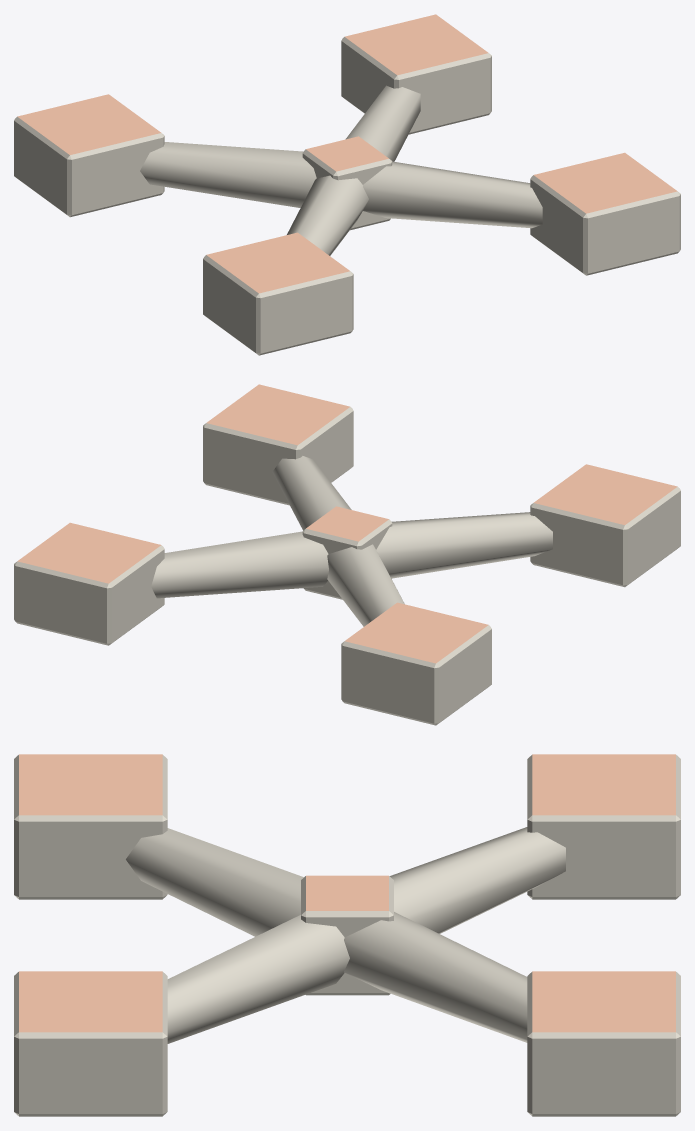
File: R4C_ROD_CROSS_LOD1.fbx
The picture shows the model from 3 angles, top to bottom: view 1: azimuth 30°, elevation 25°; view 2: azimuth 150°, elevation 25°; view 3: azimuth 270°, elevation 25°; orthographic projection. The views are drawn at different scales.
Parts seen in each view (by area): view 1: R4C_ROD_CROSS_LOD1; view 2: R4C_ROD_CROSS_LOD1; view 3: R4C_ROD_CROSS_LOD1.
Boxes of the visible parts, x1=… form: R4C_ROD_CROSS_LOD1: x1=14, y1=14, x2=680, y2=355; R4C_ROD_CROSS_LOD1: x1=14, y1=384, x2=680, y2=725; R4C_ROD_CROSS_LOD1: x1=14, y1=754, x2=680, y2=1116.
Bounding box in the file's own units: 1.62 × 0.226 × 1.62.
